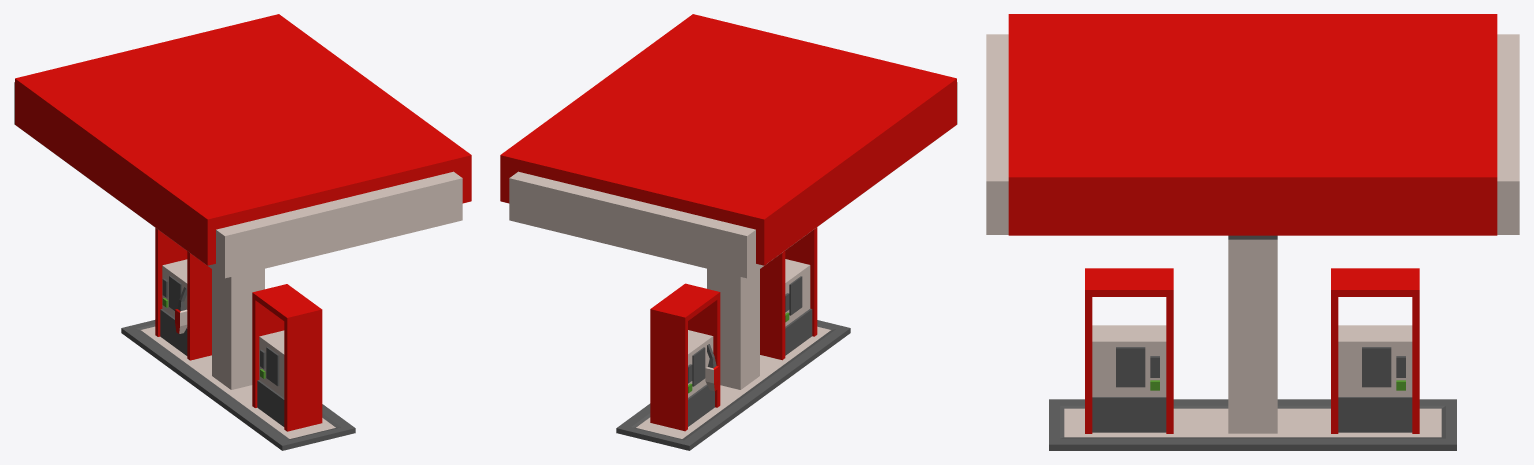
Rendered from gas station.fbx.
3 renders of one model, left to right at view 1: azimuth 30°, elevation 25°; view 2: azimuth 150°, elevation 25°; view 3: azimuth 270°, elevation 25°, orthographic. The views are drawn at different scales.
Parts seen in each view (by area): view 1: Cube; view 2: Cube; view 3: Cube.
Part boxes in pixels (left/top/right/bottom): Cube: left=14, top=14, right=471, bottom=450; Cube: left=500, top=14, right=957, bottom=450; Cube: left=986, top=14, right=1519, bottom=450.
Bounding box in the file's own units: 684 × 657 × 945.
